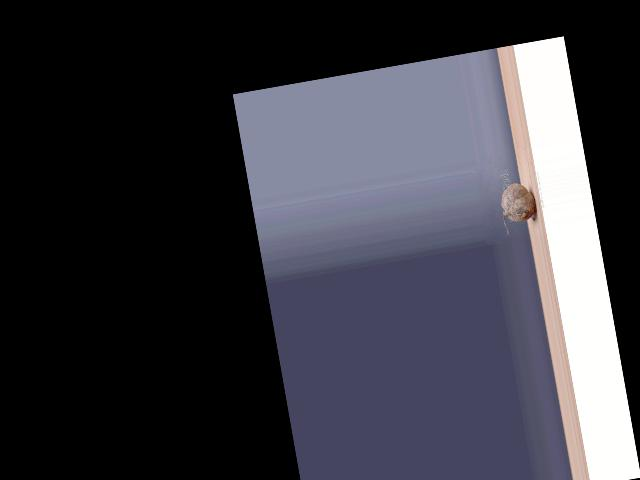beet: (497, 180, 539, 236)
